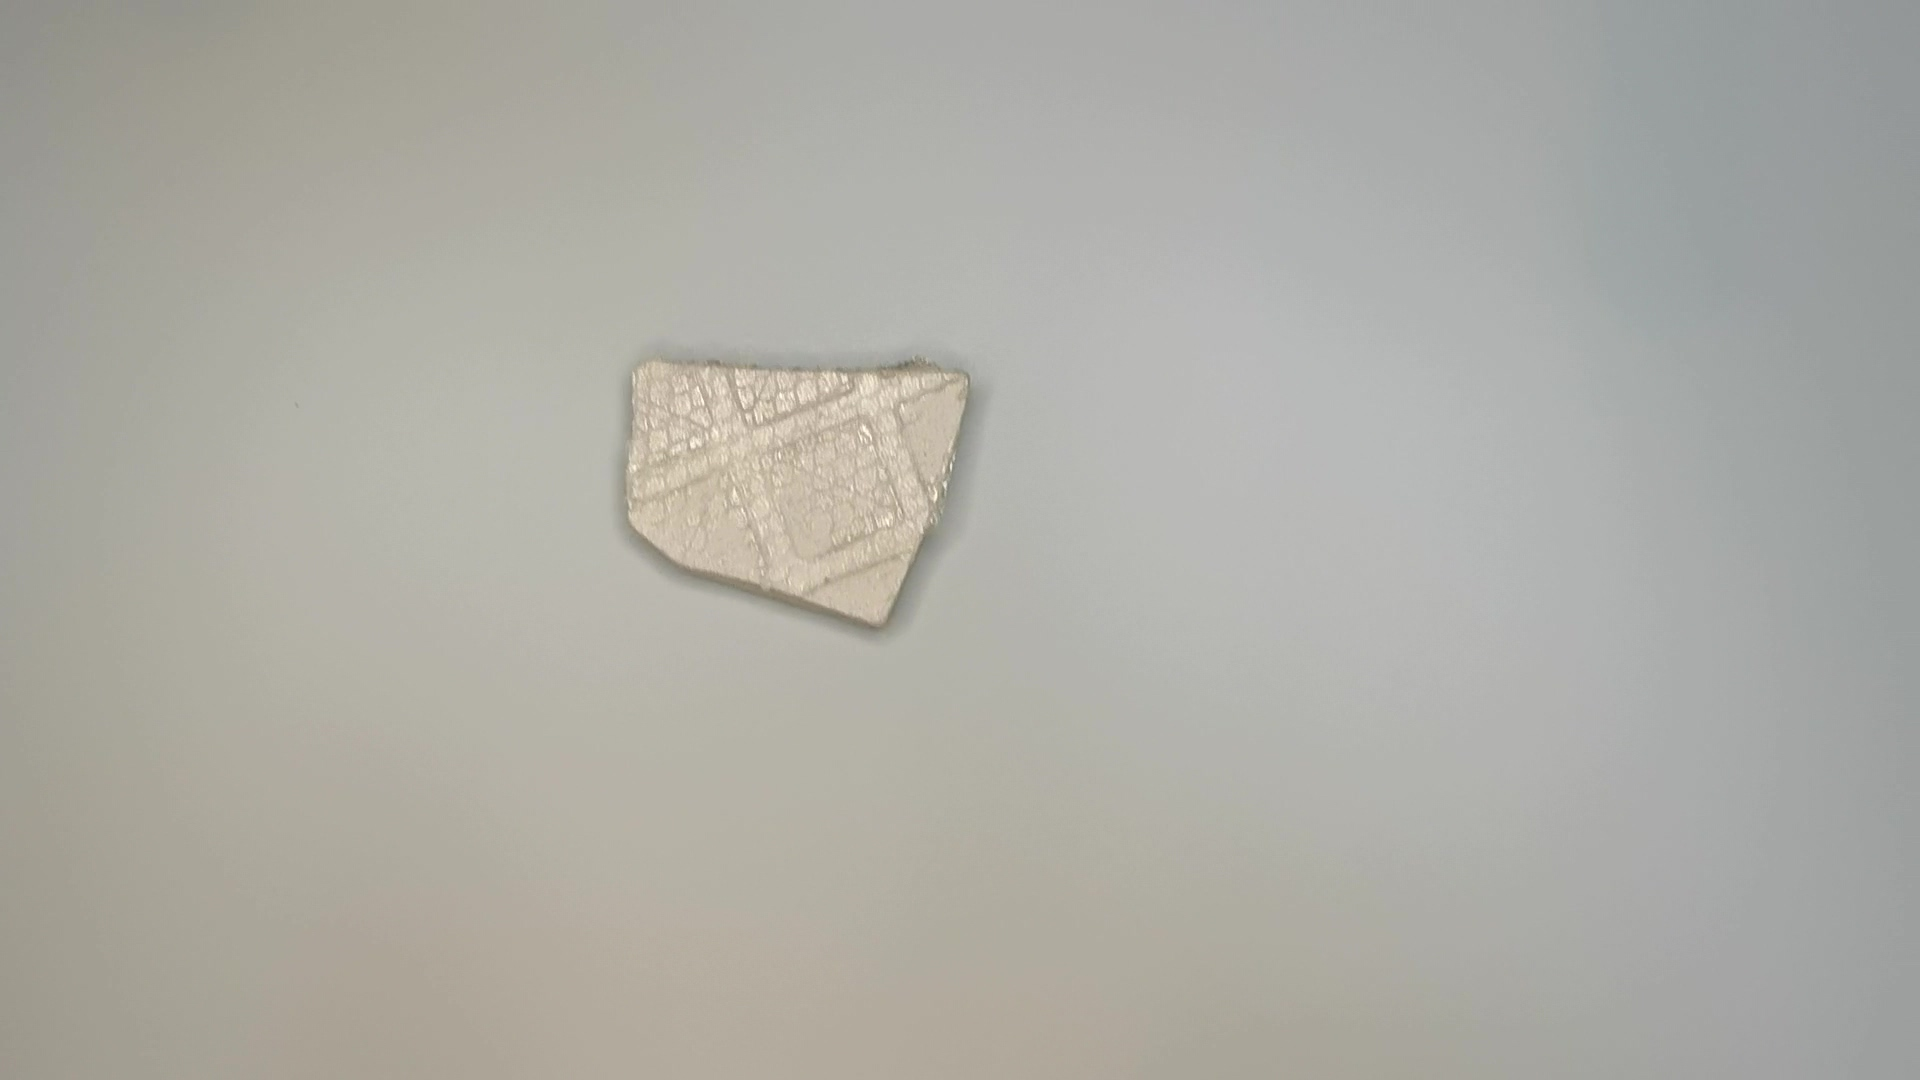ceramic: (615, 349, 984, 638)
